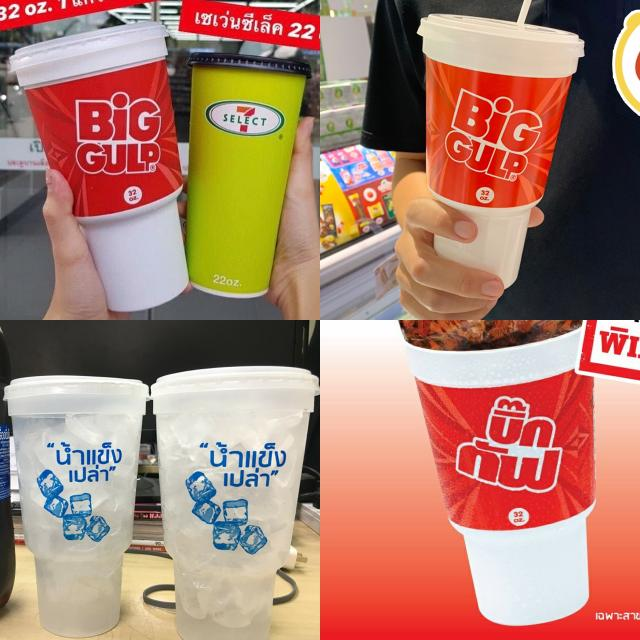Single-Use-Plastic: (406, 329, 595, 624), (10, 22, 189, 311), (418, 0, 584, 287), (151, 366, 319, 640), (5, 375, 149, 637), (186, 52, 311, 298)
